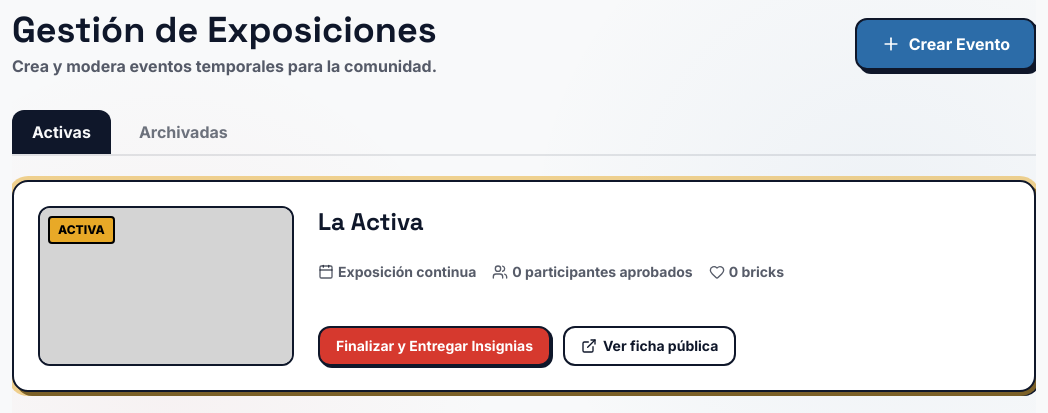
Admin Exposiciones › el filtro separa activas de archivadas
Expected: the heading "La Activa" is shown, [318,206,424,237]
Expected: the text "La Archivada" is not shown
What coordinates should you click on to do the following:
click the button "archivadas"
I would click on:
 (183, 132)
Its box is [119,110,248,154].
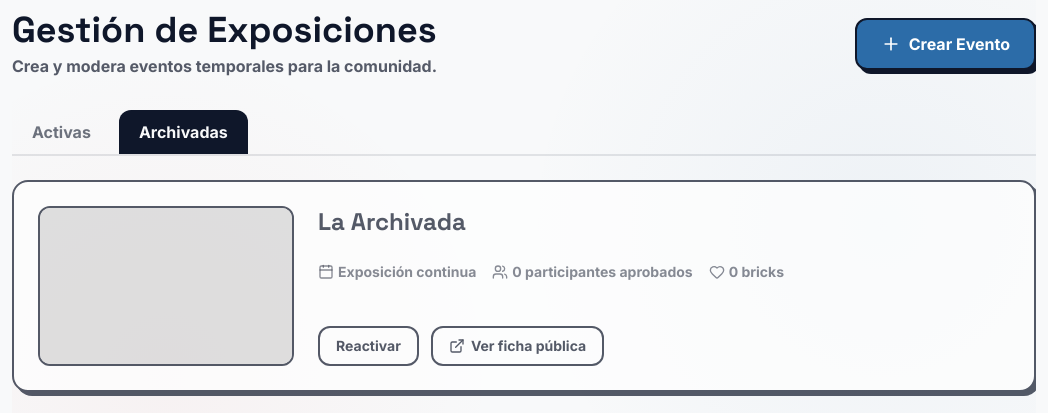
Expected: the heading "La Archivada" is shown, [318,206,466,237]
Expected: the heading "La Activa" is gone
